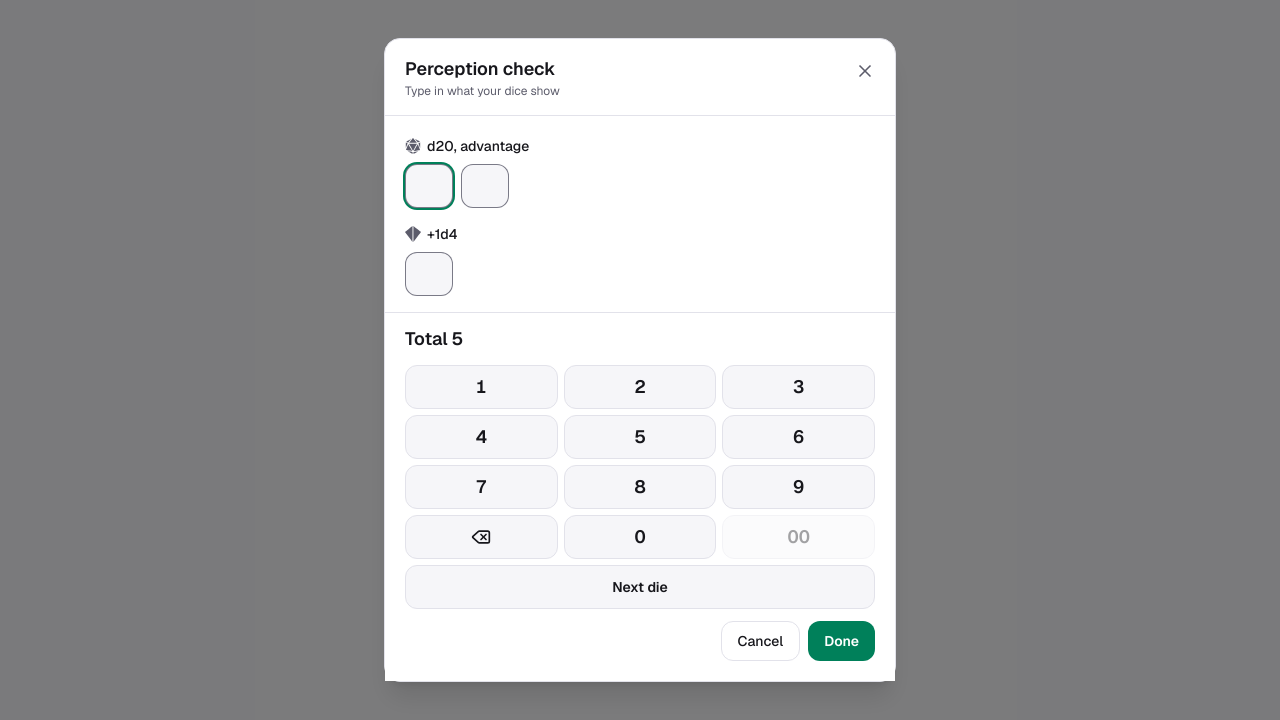
Test: components/dice-entry/dice-entry-dialog › typing › starts a d20 holding 17 again with a 3, as no digit more could make another face
Type keys "17"
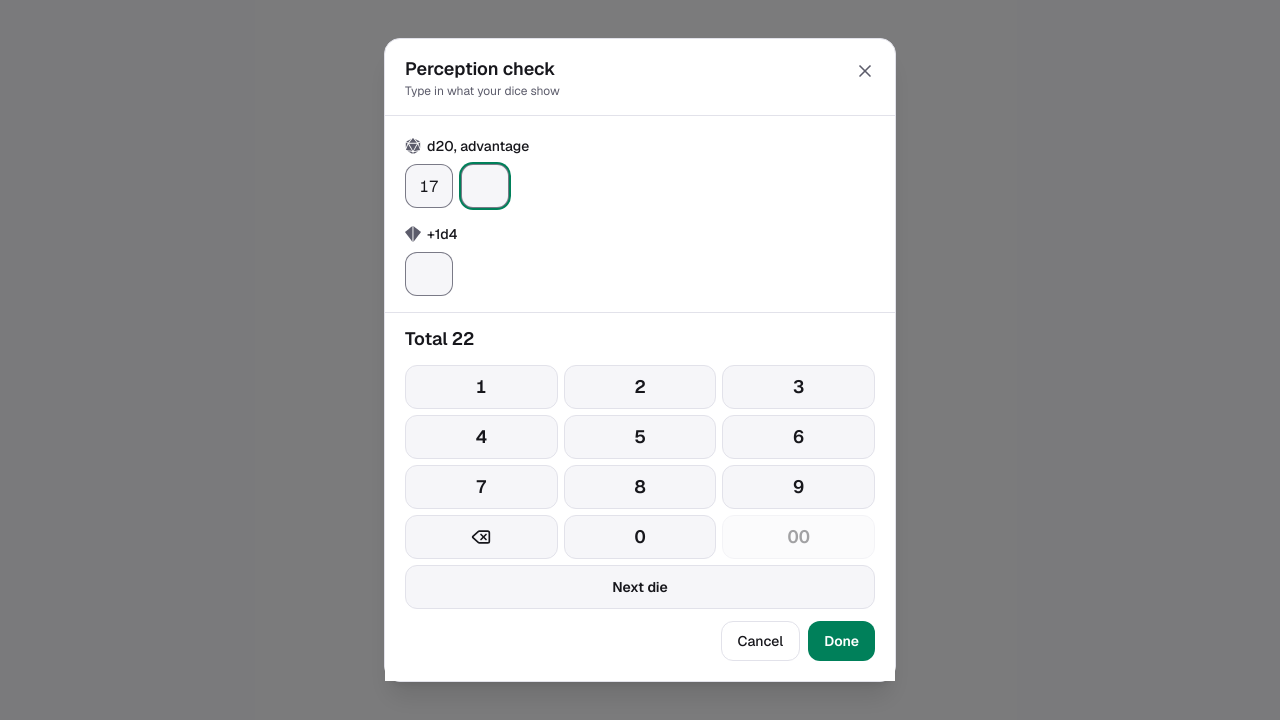
Click the field named "d20 1 of 2" at coordinates (429, 186), box top-left (405, 164), bottom-right (453, 208)
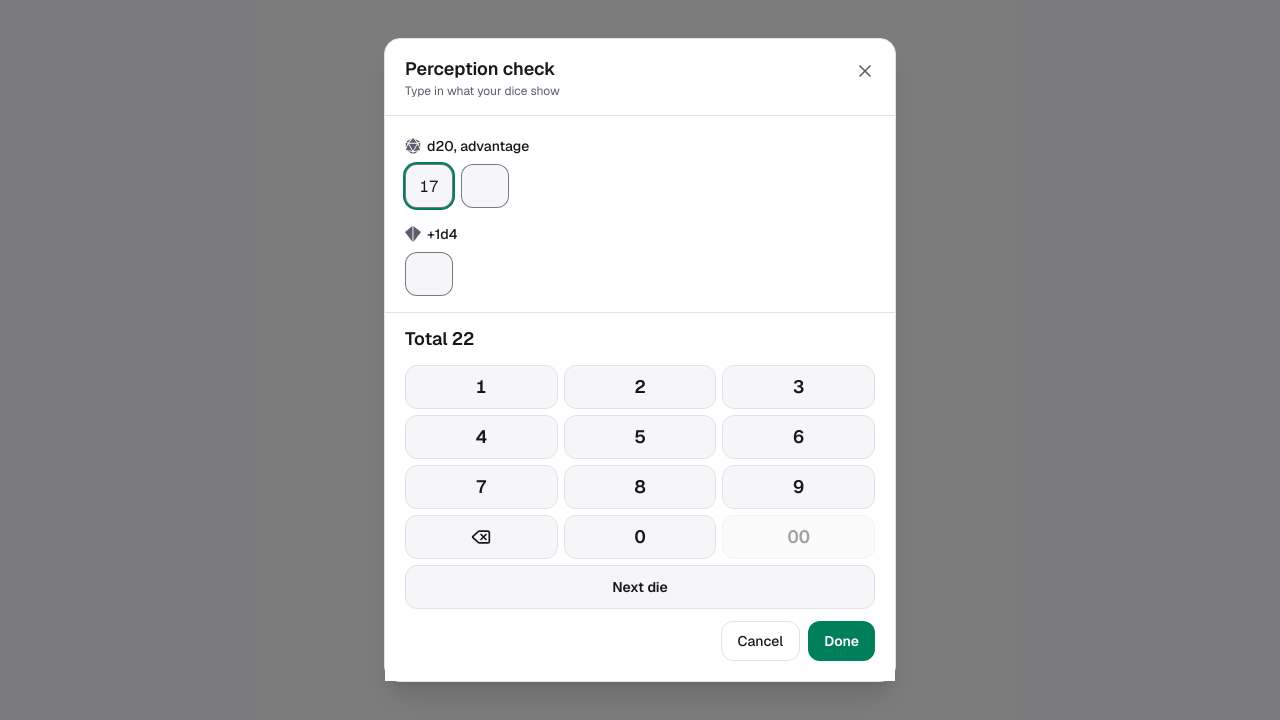
Type keys "3"
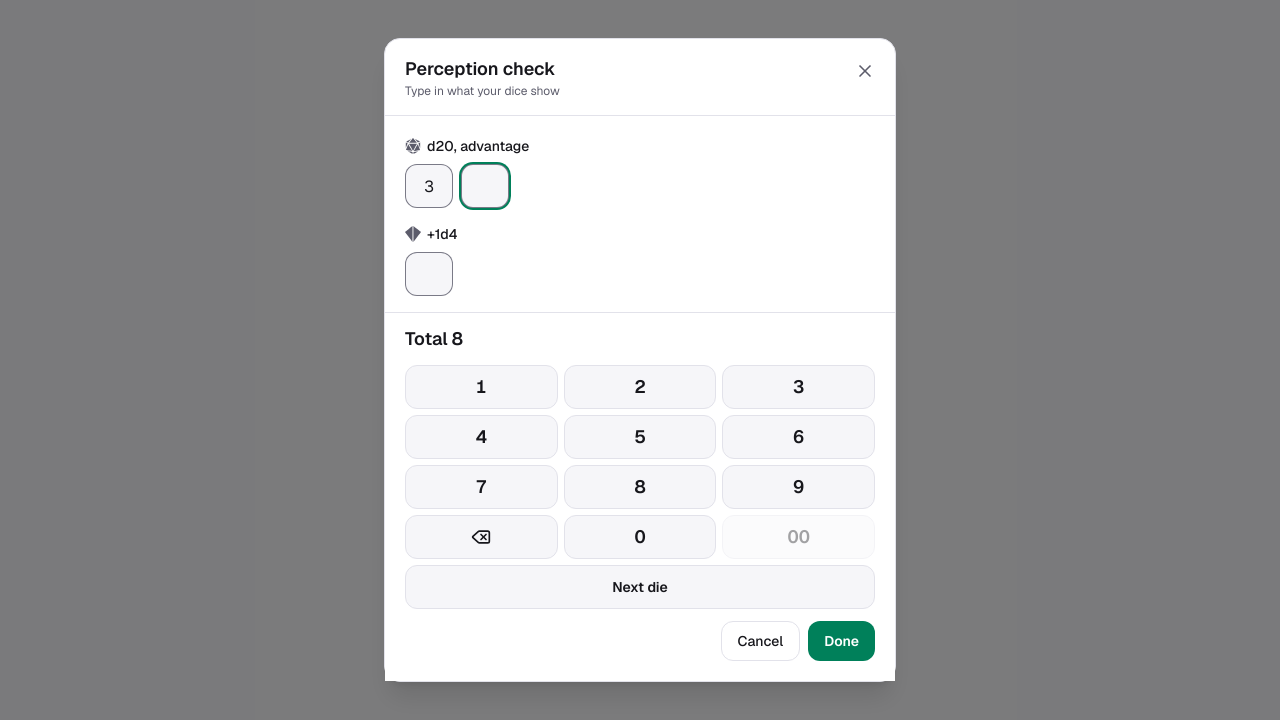
Check: the field named "d20 1 of 2" holds "3", box top-left (405, 164), bottom-right (453, 208)
